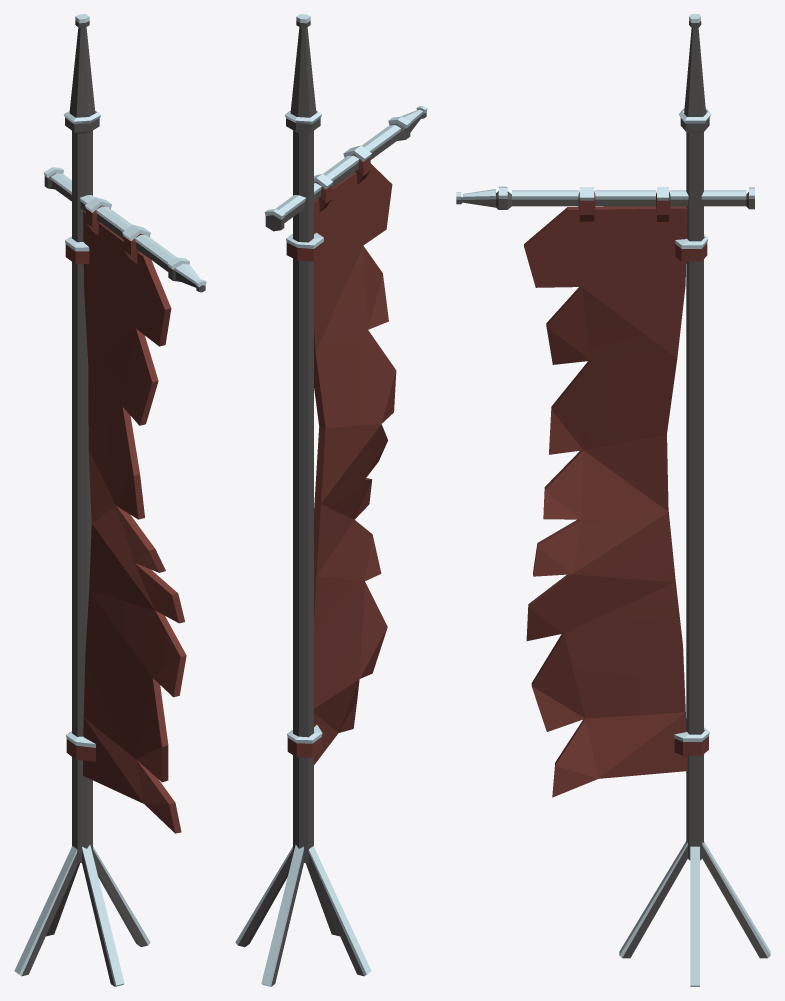
The model's file is Bandera01.glb.
The picture shows the model from 3 angles, left to right: view 1: azimuth 30°, elevation 25°; view 2: azimuth 150°, elevation 25°; view 3: azimuth 270°, elevation 25°; orthographic projection.
Visible parts, largest first — view 1: SM_Prop_Flag_01_Snow; view 2: SM_Prop_Flag_01_Snow; view 3: SM_Prop_Flag_01_Snow.
Part boxes in pixels (x1,y1,x2,y2): SM_Prop_Flag_01_Snow: (14,14,206,986); SM_Prop_Flag_01_Snow: (235,14,427,986); SM_Prop_Flag_01_Snow: (456,14,770,986).
Size of the model in its own units: 0.7138 by 4.89 by 1.48.
1 material, 1 textured.
